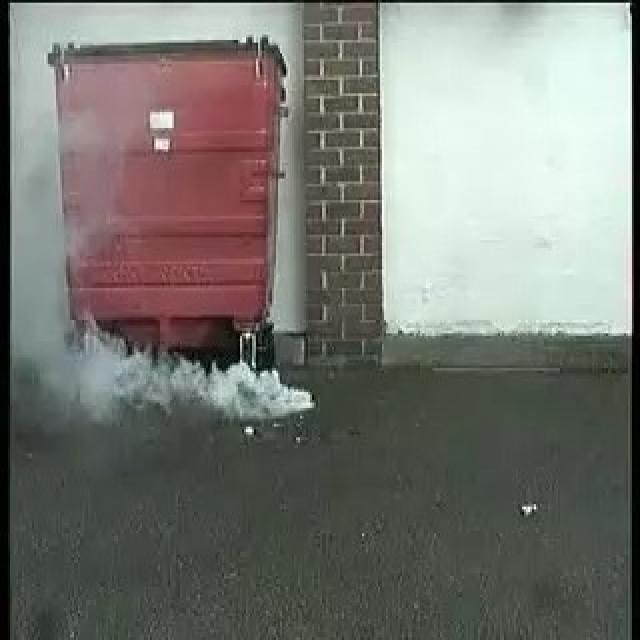smoke: (44, 328, 317, 420)
